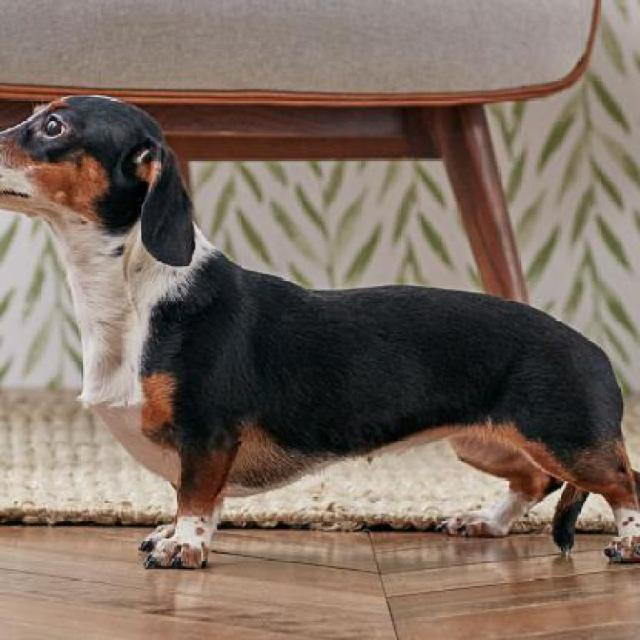Dog: (0, 84, 638, 573)
